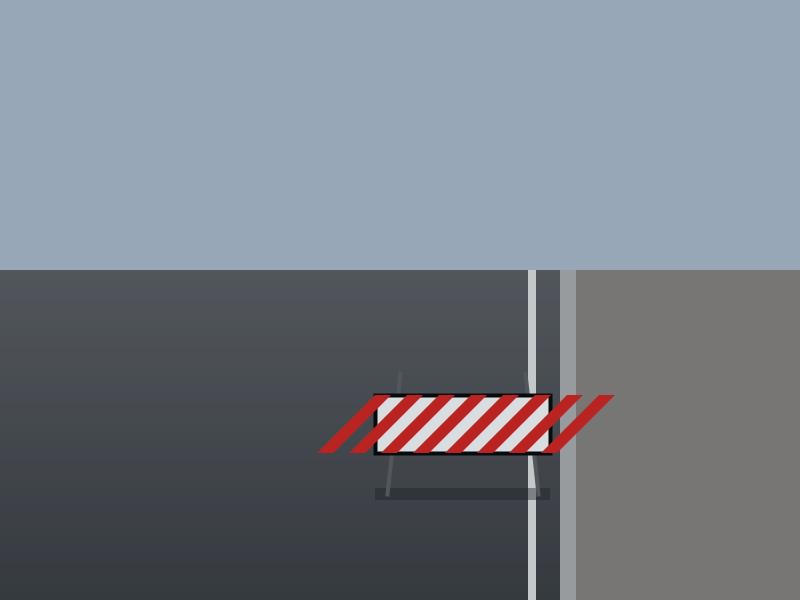ROAD_OBSTACLE: (375, 363, 550, 494)
